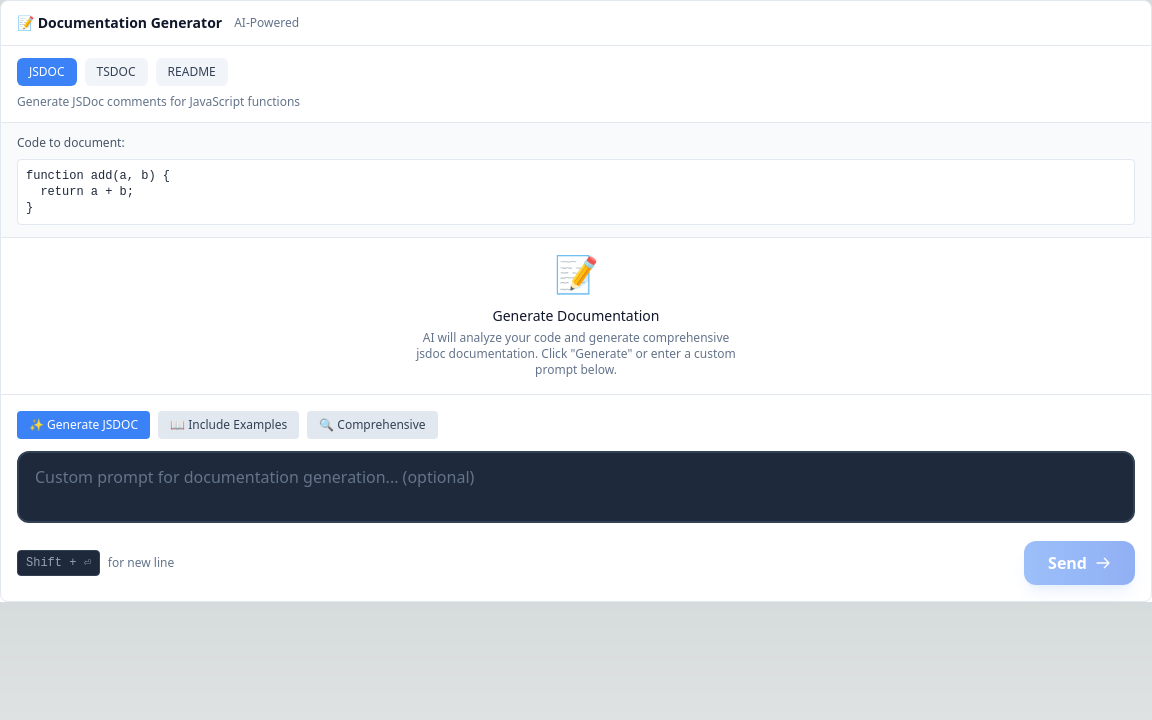
it: DocumentationGenerator › Doc Type Selection › should allow switching doc types
This screenshot has width=1152, height=720.
Click the button "TSDOC": [116, 72] box [85,58,148,86]
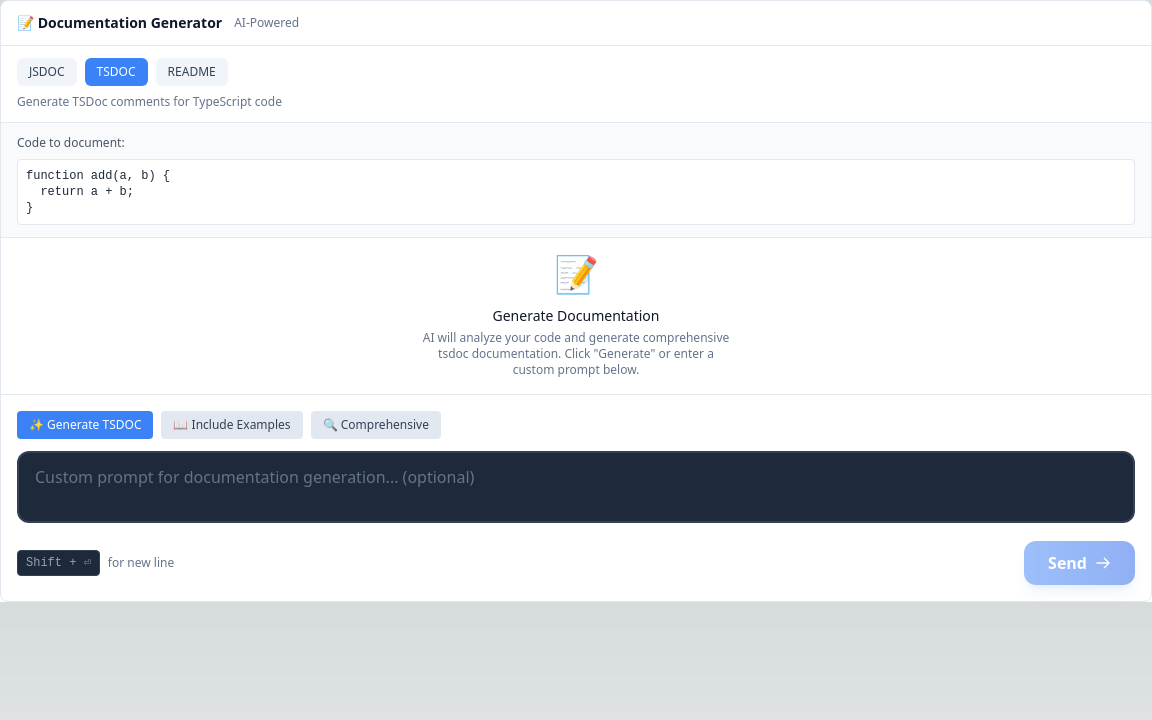
Expected: the text "Generate TSDoc comments for TypeScript code" is shown, [17,93,282,110]
